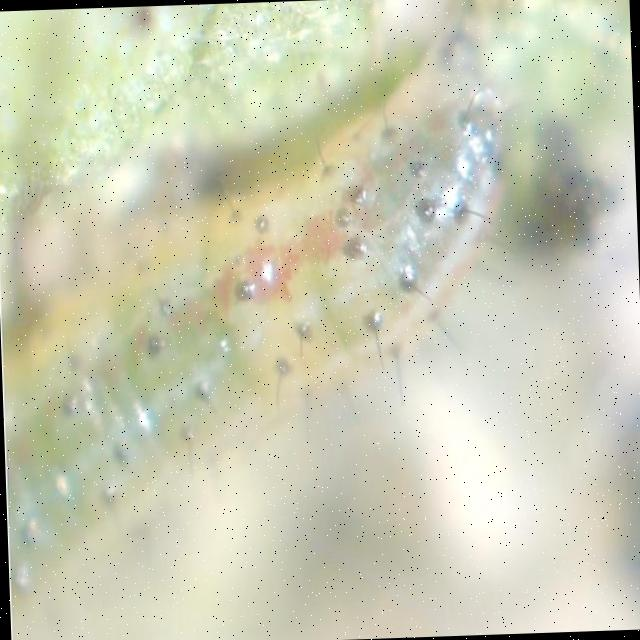worm: (1, 79, 528, 597)
